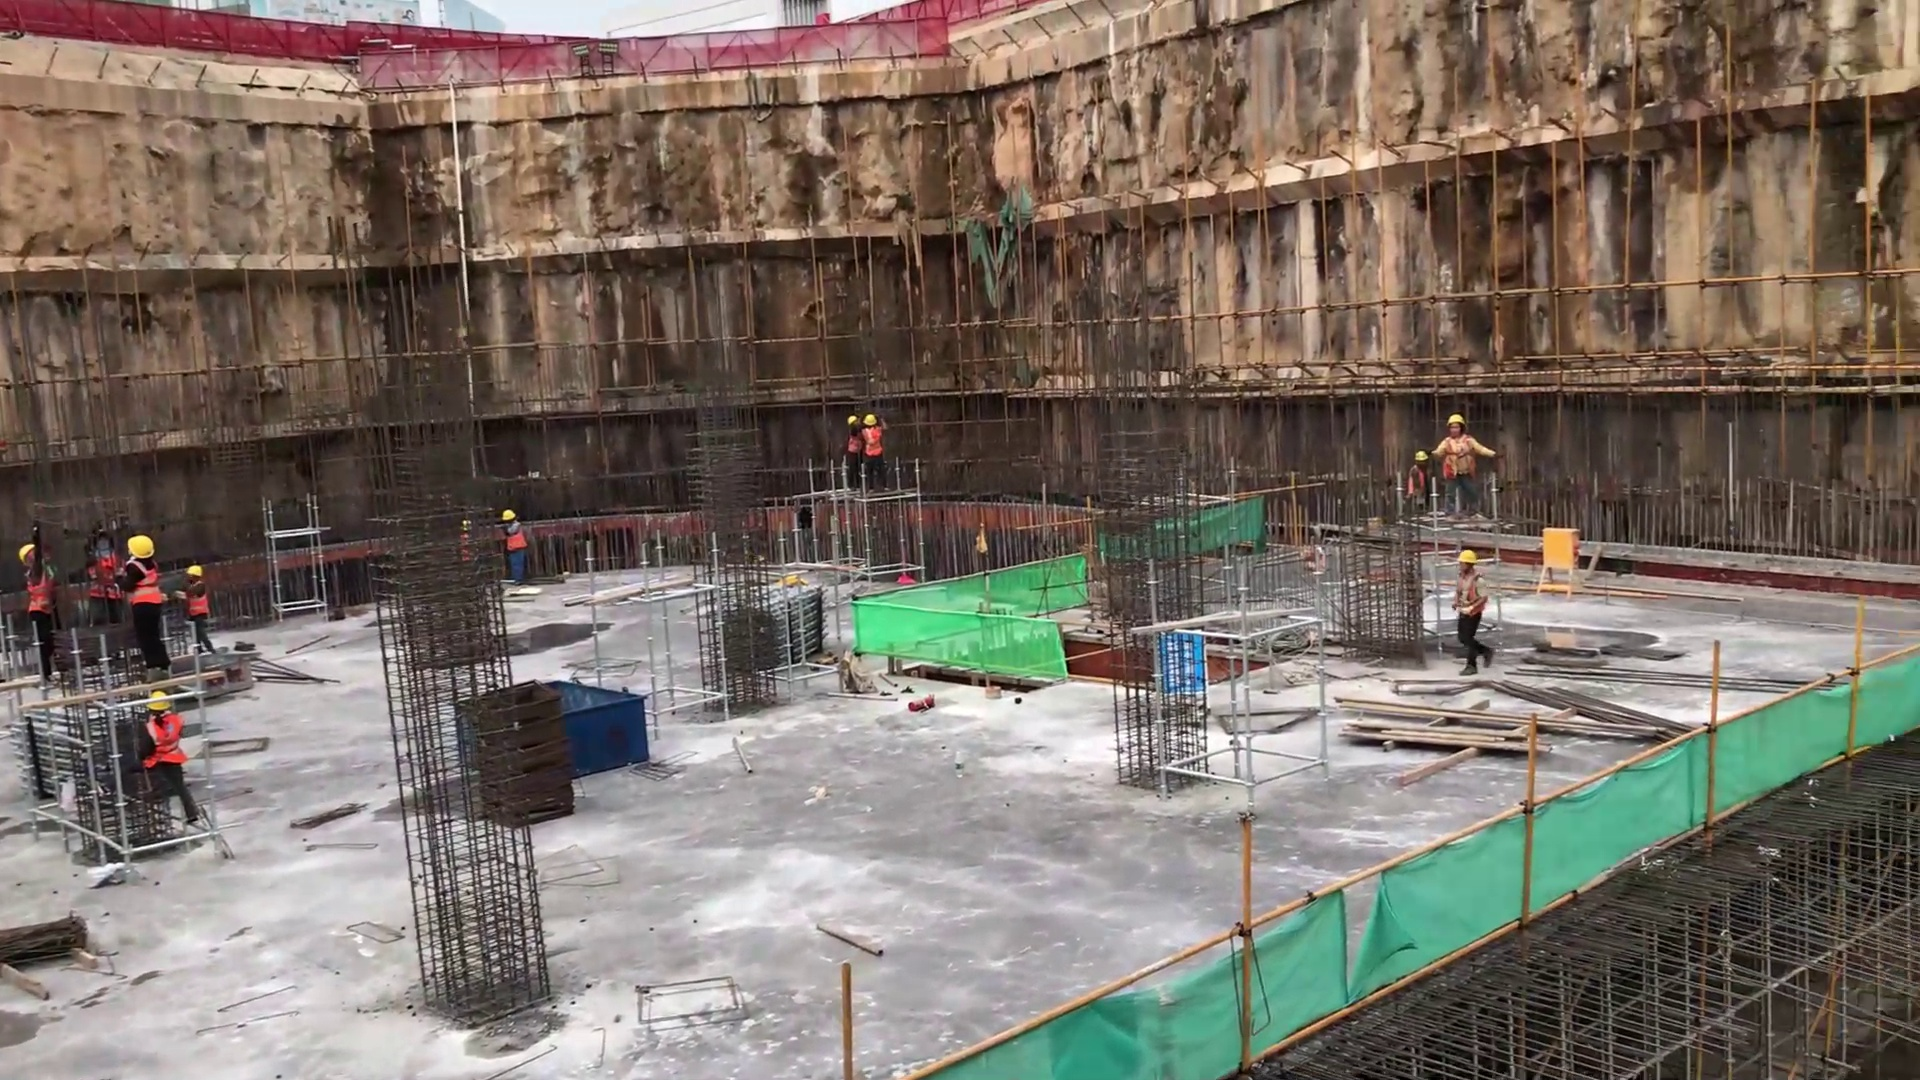helmet: (126, 535, 156, 561), (146, 689, 174, 709), (1452, 547, 1476, 564), (851, 414, 885, 425), (1445, 412, 1464, 421)
person: (137, 690, 197, 833), (112, 534, 174, 669), (1445, 547, 1503, 685), (9, 529, 55, 696), (1439, 415, 1482, 525), (176, 563, 225, 658), (79, 530, 124, 634), (493, 506, 538, 591), (845, 408, 888, 484)
vest: (141, 710, 187, 770), (127, 561, 165, 606)
